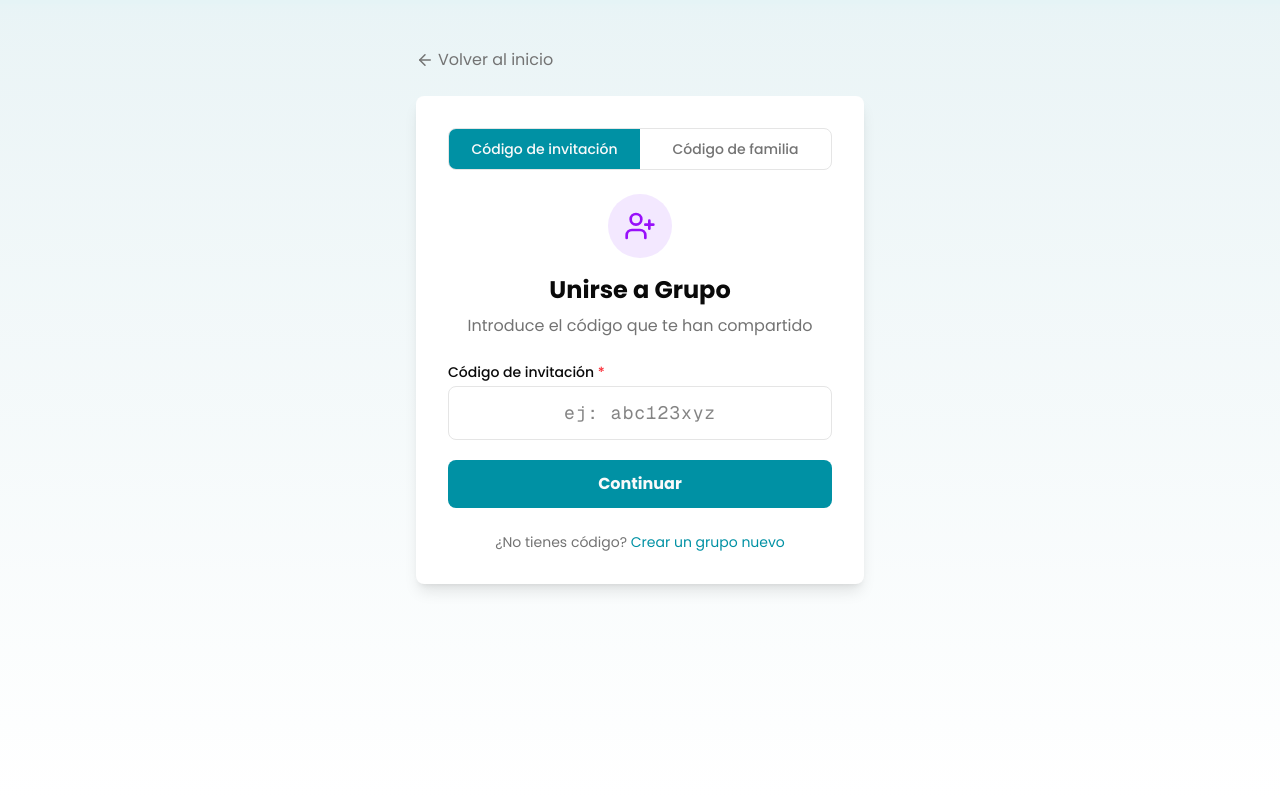
it: JoinPage — familia tab › switches to familia tab when clicking the tab button
The width and height of the screenshot is (1280, 800).
Click the button "Código de familia": [736, 149] box [640, 129, 831, 169]
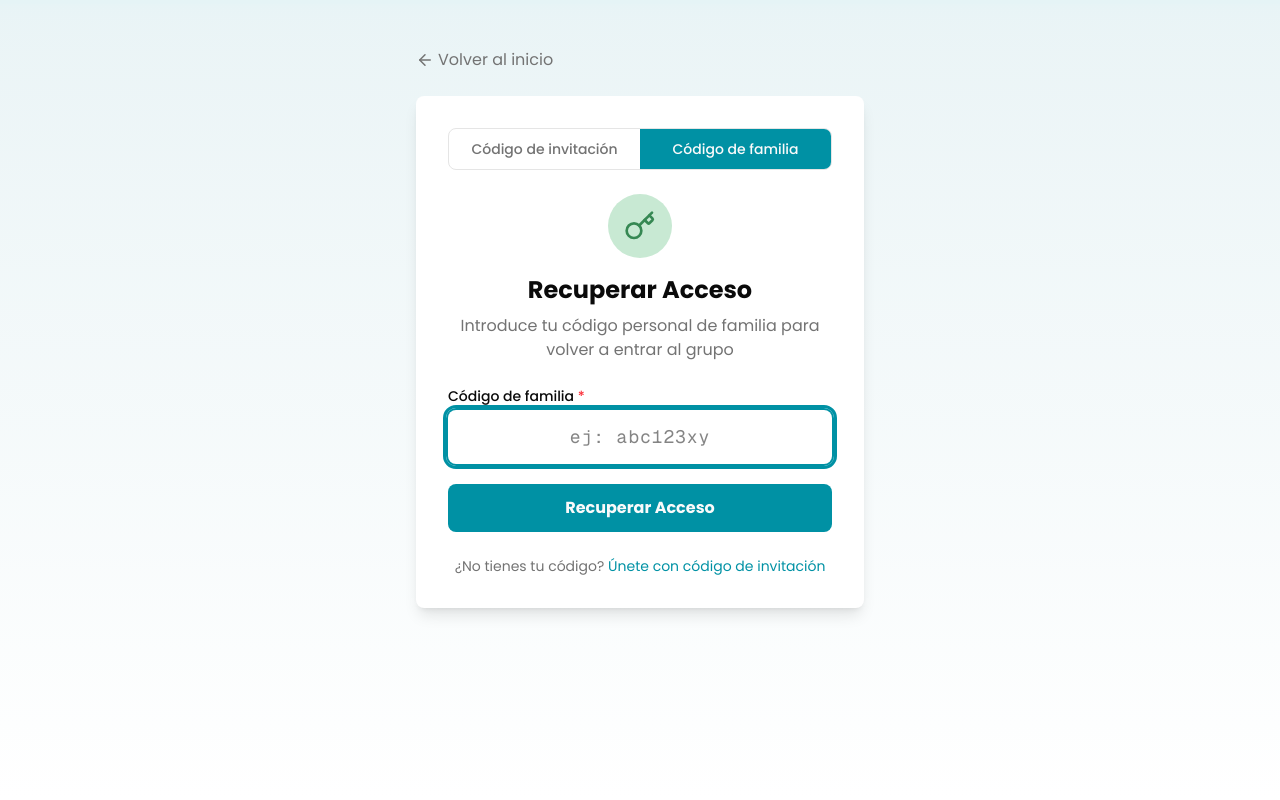
Result: the heading "Recuperar Acceso" is shown at [528, 273, 752, 306]
